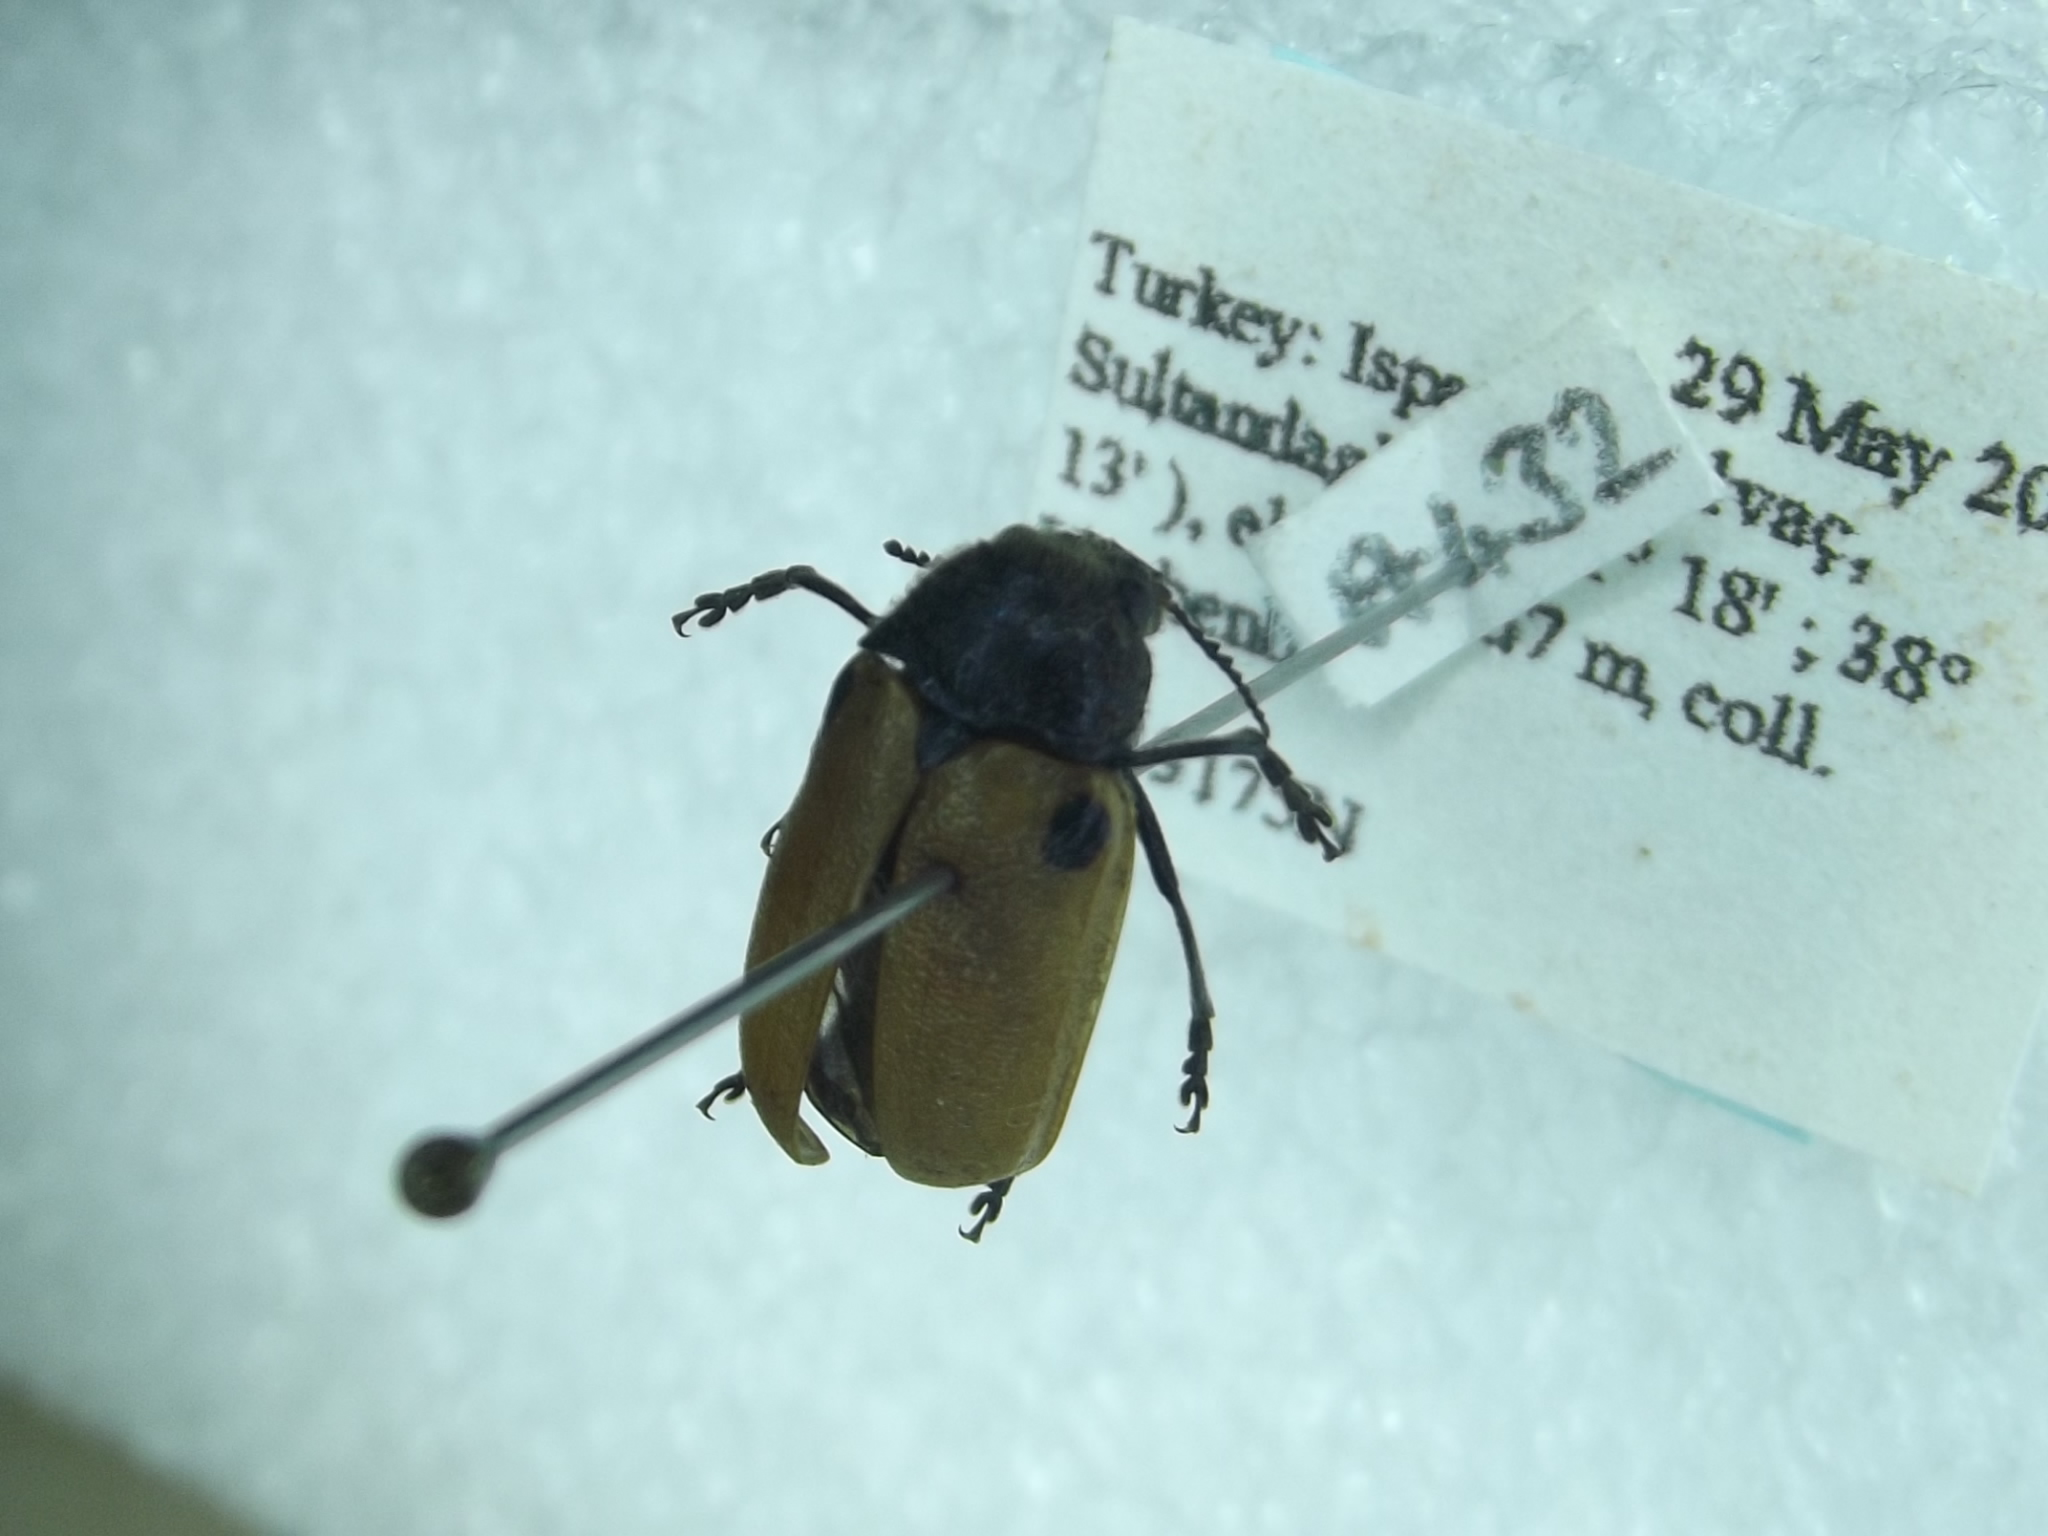Labidostomis_asiatica: (658, 478, 1353, 1250)
